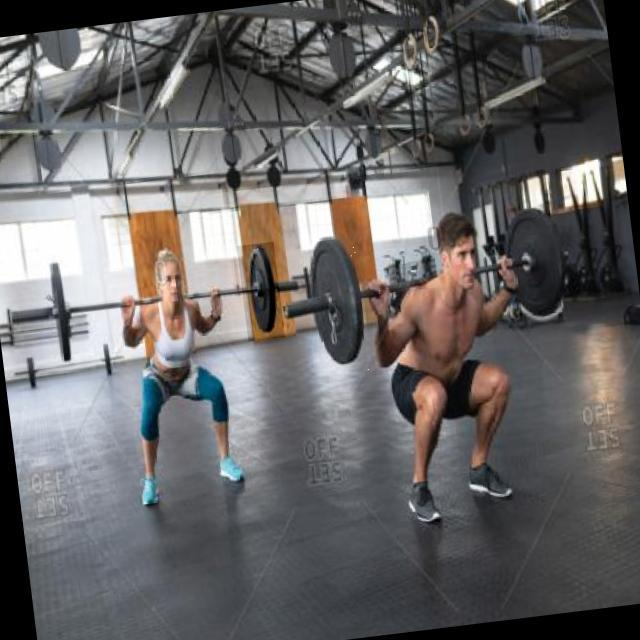barbell: (299, 228, 374, 378), (238, 242, 286, 342)
